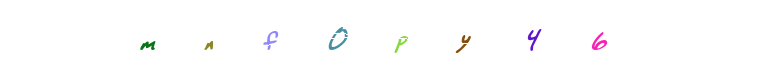0: (317, 0, 397, 80)
4: (493, 0, 573, 80)
6: (558, 0, 638, 80)
F: (313, 0, 393, 80)
M: (108, 0, 188, 80)
N: (288, 0, 368, 80)
P: (337, 0, 417, 80)
Y: (339, 0, 419, 80)
